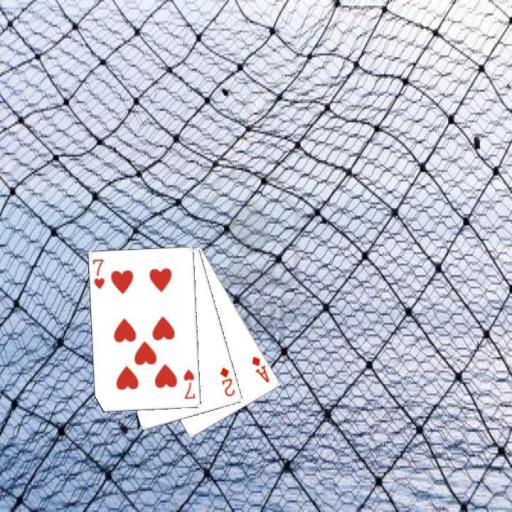2D: (217, 364, 237, 398)
7H: (181, 366, 197, 401), (90, 256, 106, 291)
AD: (249, 353, 271, 384)
